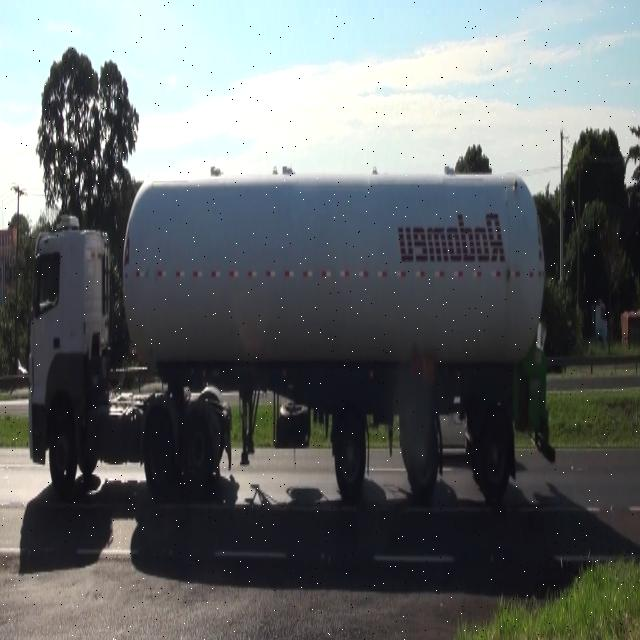-axle: (478, 402, 510, 500), (184, 398, 215, 496), (332, 412, 366, 499), (144, 406, 178, 493), (406, 416, 440, 501), (48, 409, 74, 501)
